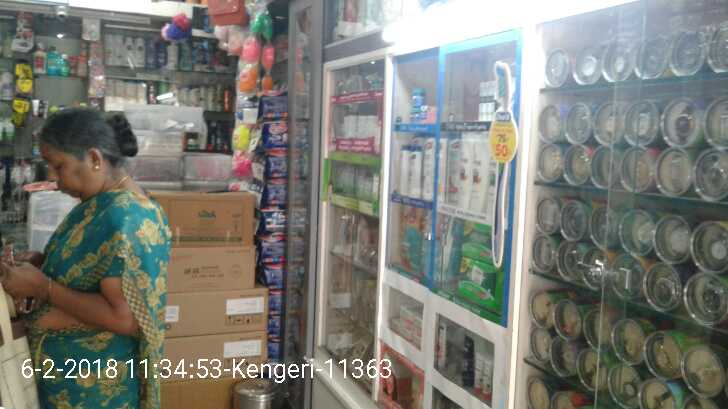beauty: (466, 132, 492, 217), (448, 137, 469, 215), (395, 141, 411, 194), (411, 147, 425, 200)
pharmacy: (453, 257, 504, 309), (395, 202, 424, 277), (456, 219, 505, 260), (395, 83, 435, 124)
